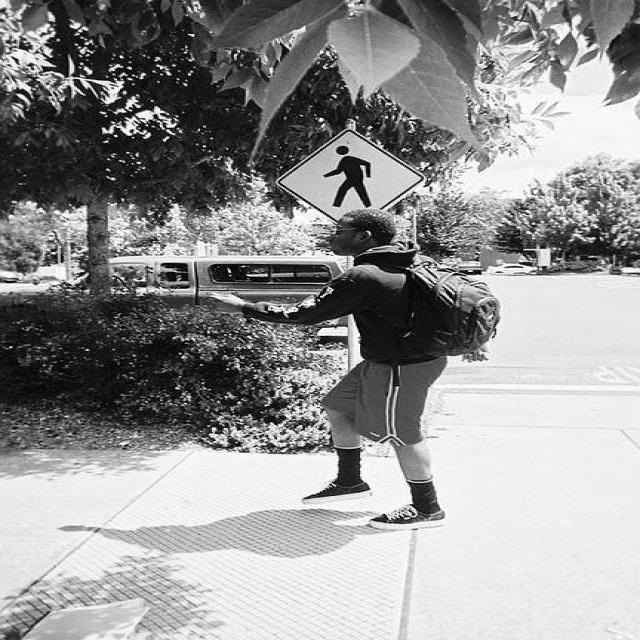vehicle: (3, 255, 343, 305), (0, 266, 57, 296), (485, 264, 541, 274), (459, 261, 483, 275)
